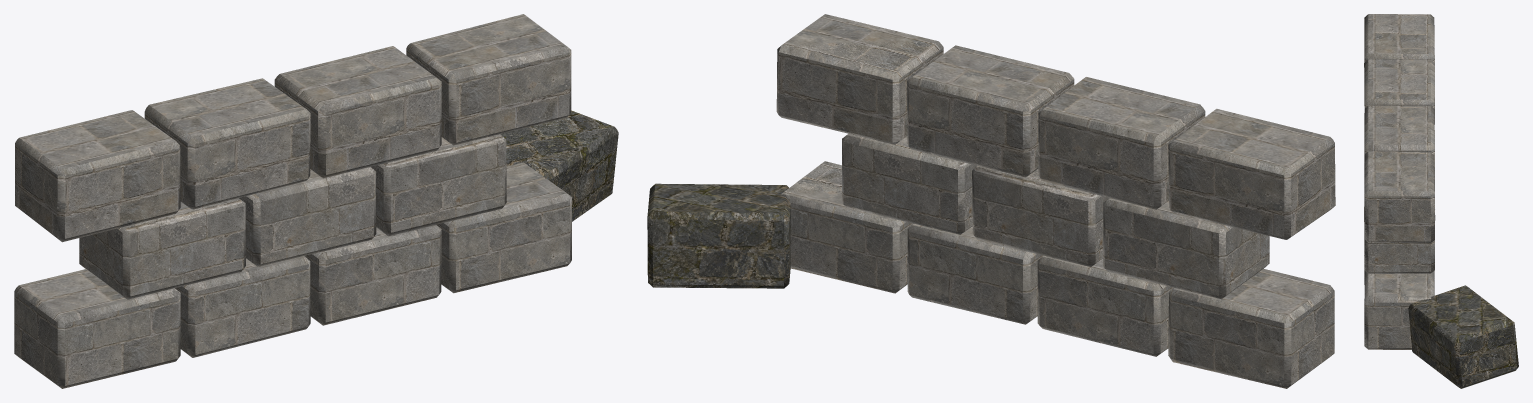
File: wall-blocks-v01.glb
3 views of the same model, side by side, from view 1: azimuth 30°, elevation 25°; view 2: azimuth 150°, elevation 25°; view 3: azimuth 270°, elevation 25° (orthographic). The views are drawn at different scales.
Visible parts, largest first — view 1: wall-blocks; view 2: wall-blocks; view 3: wall-blocks.
Boxes of the visible parts, box(x1,y1,x2,y2) form: wall-blocks: box(14, 14, 618, 388); wall-blocks: box(647, 14, 1335, 388); wall-blocks: box(1364, 14, 1518, 388).
Size of the model in its own units: 4.06 by 1.4 by 1.22.
2 materials, 2 textured.
